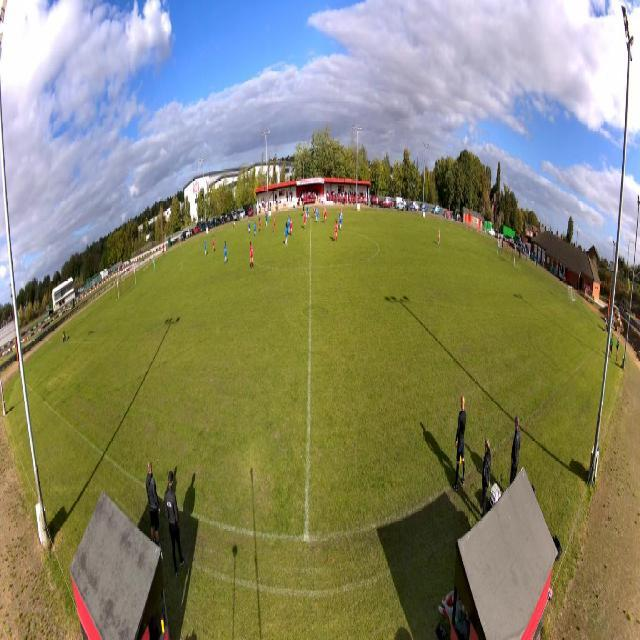ball: (211, 191, 212, 193)
player: (249, 241, 254, 269), (334, 218, 338, 242), (284, 223, 288, 247), (224, 240, 228, 264), (303, 211, 307, 230), (315, 206, 319, 223), (323, 206, 327, 223), (341, 208, 344, 229), (287, 214, 290, 235), (290, 216, 293, 236), (273, 215, 276, 234), (339, 211, 342, 230), (306, 207, 310, 221), (312, 205, 316, 219), (212, 235, 215, 253), (248, 217, 251, 234), (258, 217, 261, 233), (153, 257, 156, 273), (265, 213, 268, 228), (205, 237, 207, 256), (438, 227, 440, 246), (254, 219, 256, 237), (303, 202, 305, 216)
